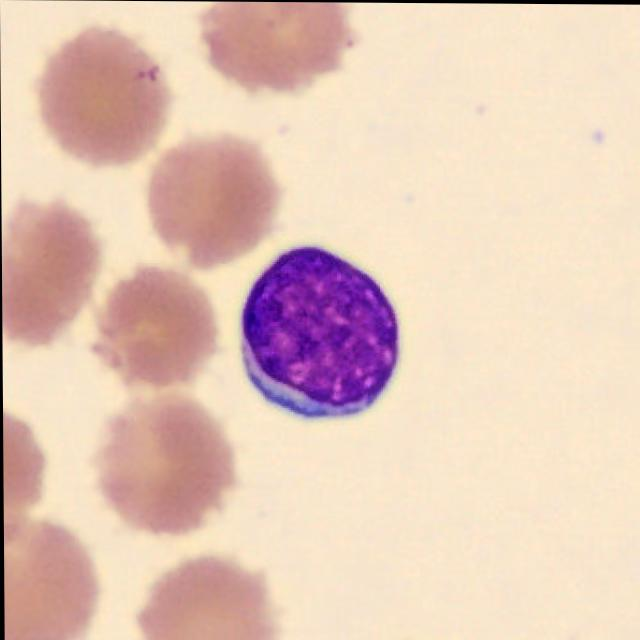Linfocito: (239, 247, 401, 419)
